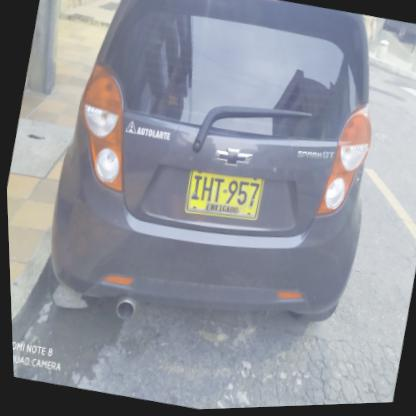placa: (174, 158, 271, 231)
